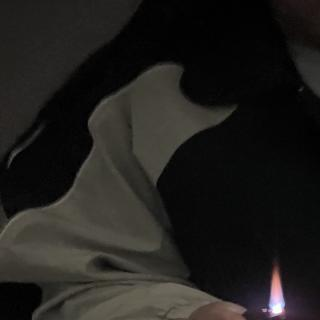fire: (266, 262, 286, 316)
